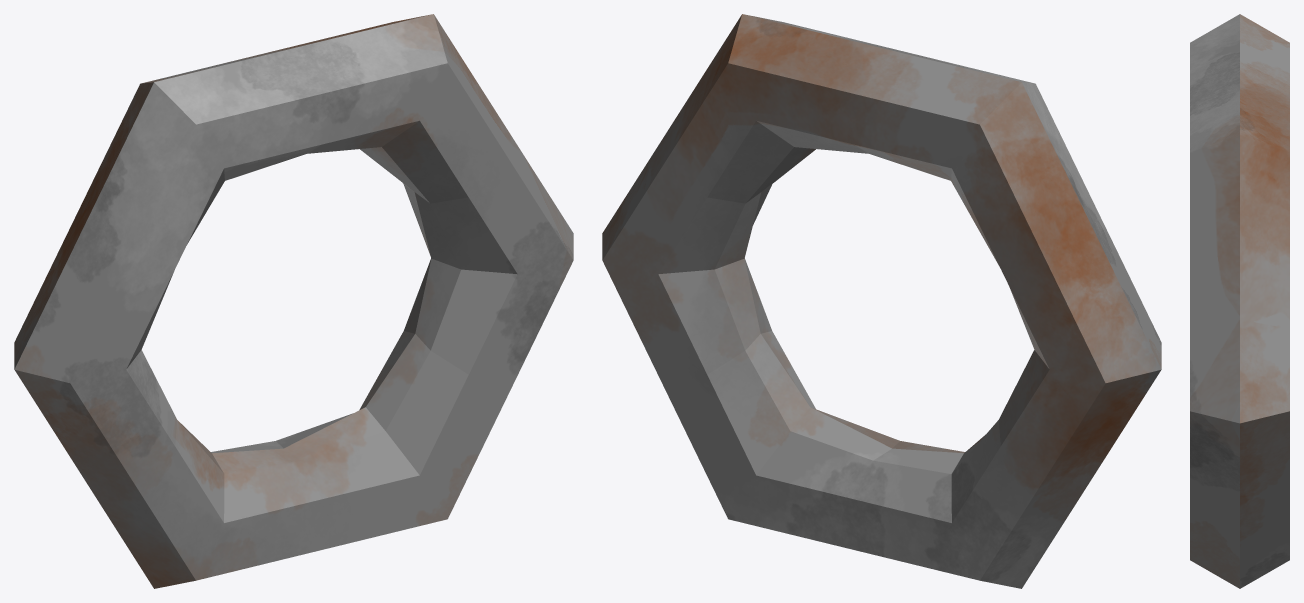
File: Mutter_Collectible.fbx
The picture shows the model from 3 angles, left to right: view 1: azimuth 30°, elevation 25°; view 2: azimuth 150°, elevation 25°; view 3: azimuth 270°, elevation 25°; orthographic projection. The views are drawn at different scales.
Visible parts, largest first — view 1: Torus.001; view 2: Torus.001; view 3: Torus.001.
Part boxes in pixels (x1,y1,x2,y2): Torus.001: [14, 14, 573, 588]; Torus.001: [602, 14, 1161, 588]; Torus.001: [1190, 14, 1289, 588].
Size of the model in its own units: 50 by 43.3 by 8.66.
Materials: 1 (1 with a texture image).
